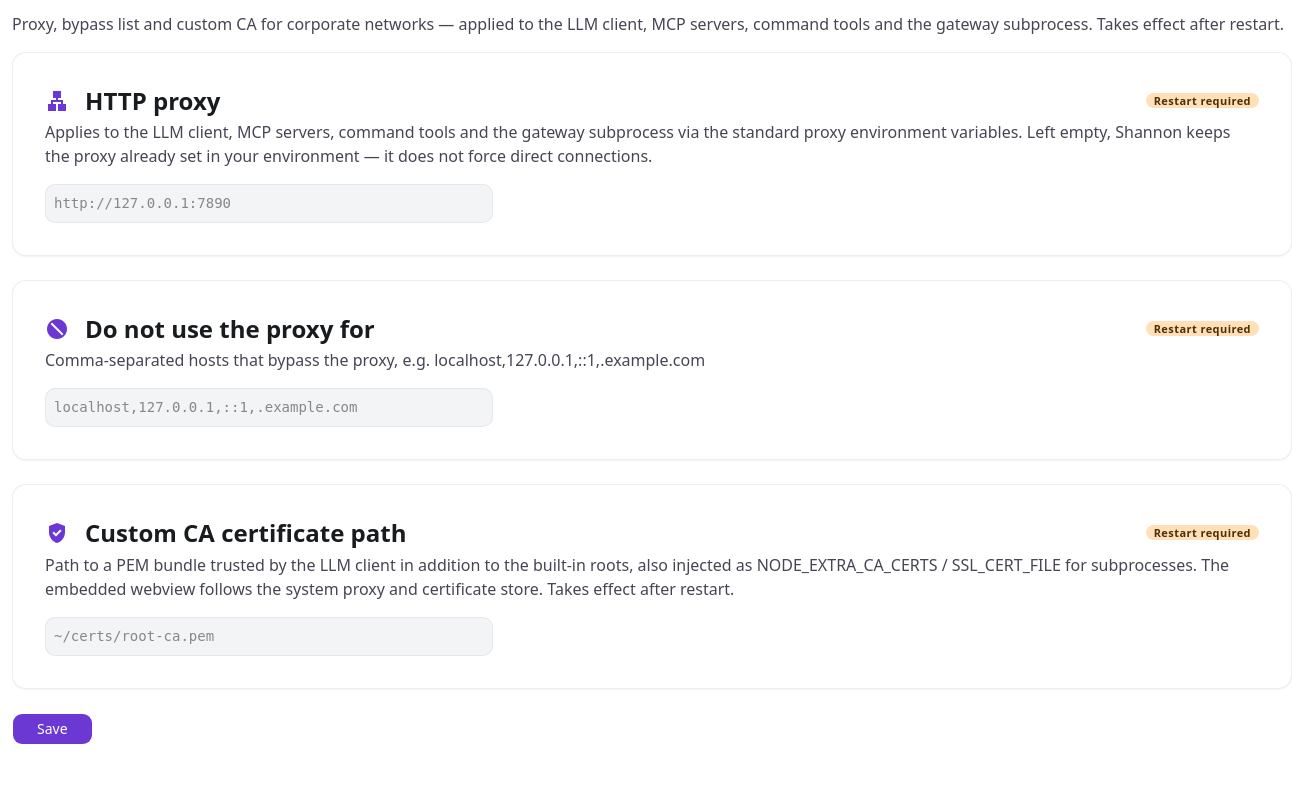
Test: NetworkSettings (Settings R3 T4 — corporate network trio) › clears the inline error once the value becomes a valid http(s) URL
Step 1. Type "nope" into the field with test id "network-proxy-input" → (269, 204), box [45, 184, 493, 223]
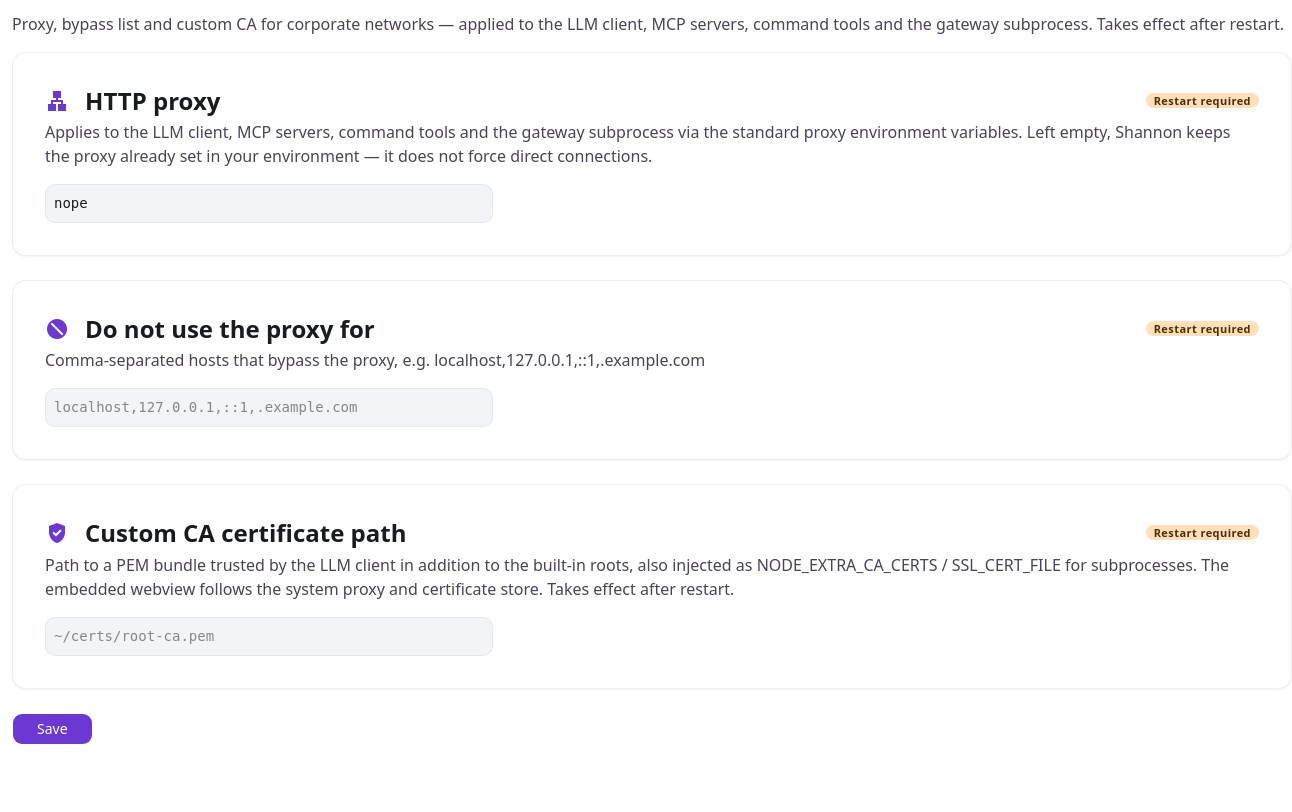
Step 2. Leave the field with test id "network-proxy-input", box [45, 184, 493, 223]
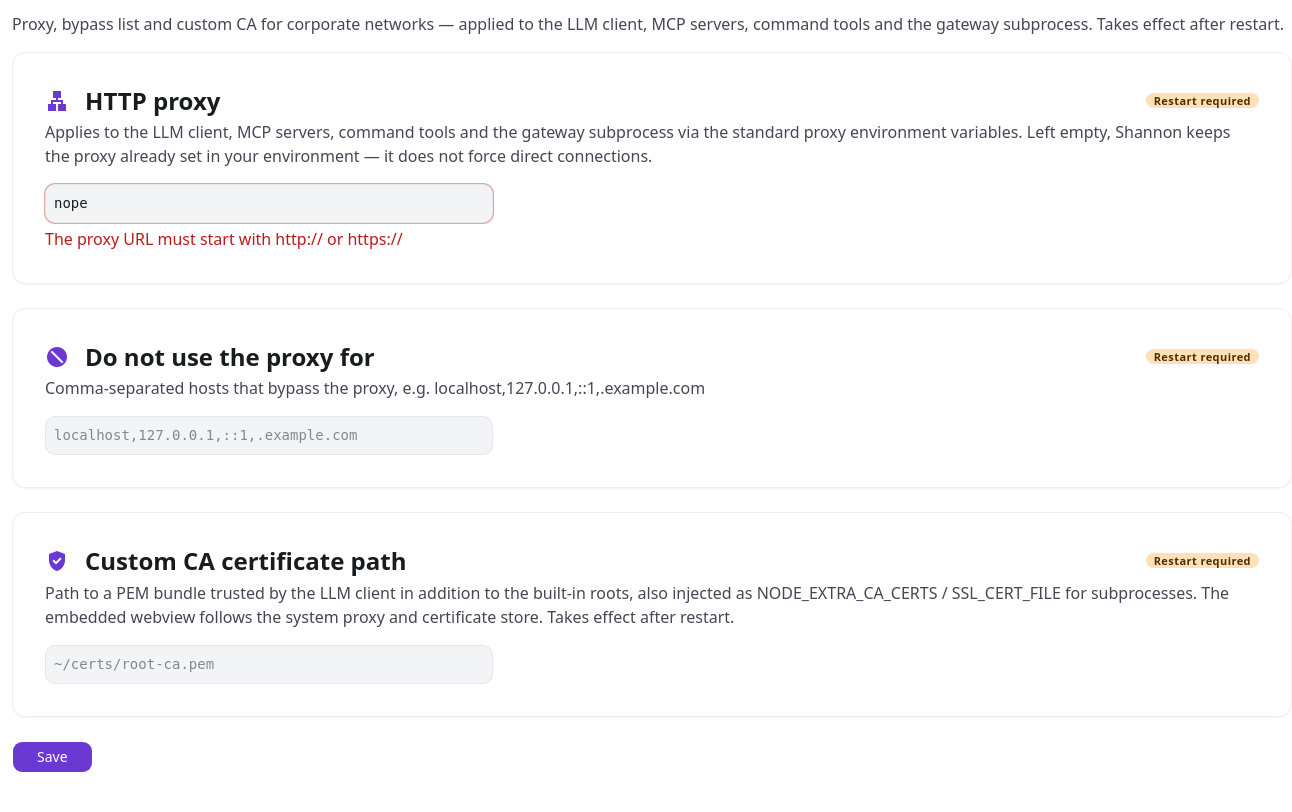
Expected: the message "The proxy URL must start with http:// or https://" is shown, [45, 228, 403, 250]
Step 3. Replace the text in the field with test id "network-proxy-input" with "https://corp:3128" → (269, 204), box [45, 184, 493, 223]
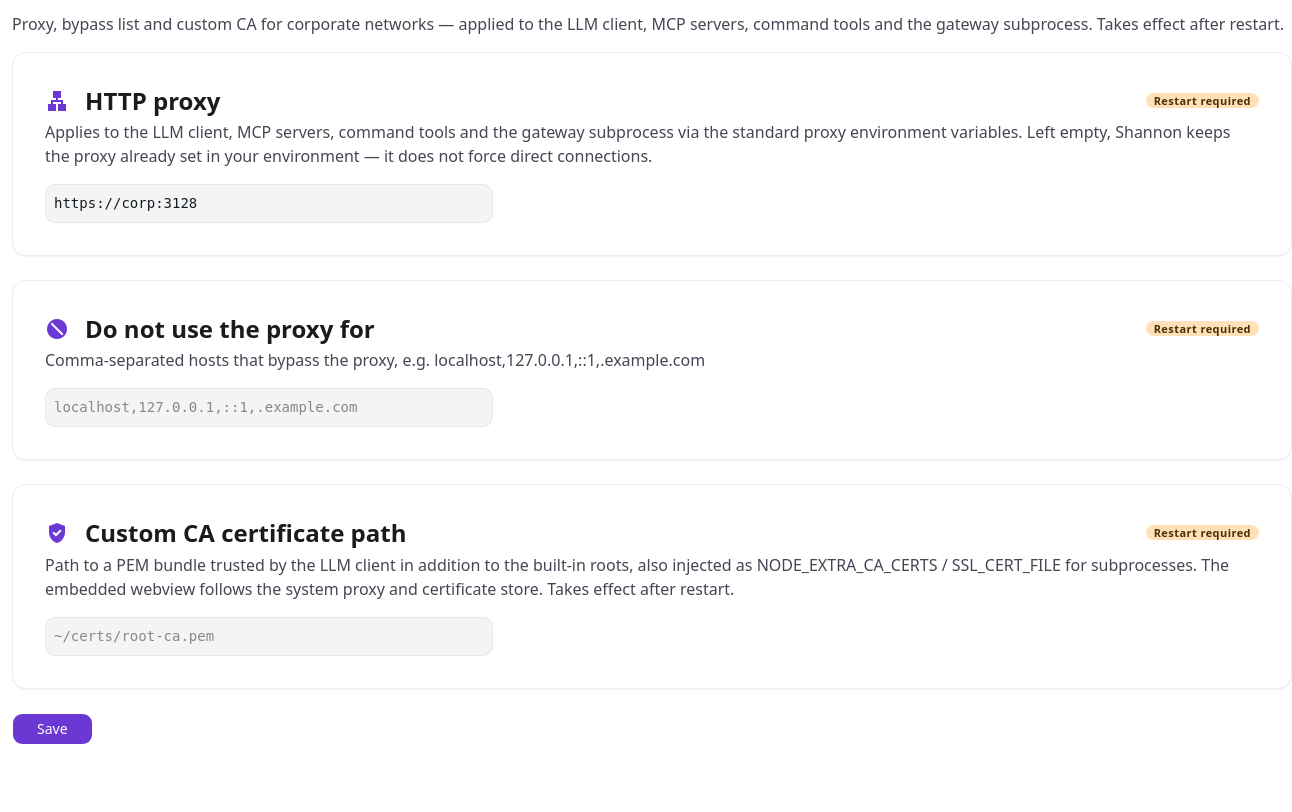
Expected: the message with test id "network-proxy-error" is gone
